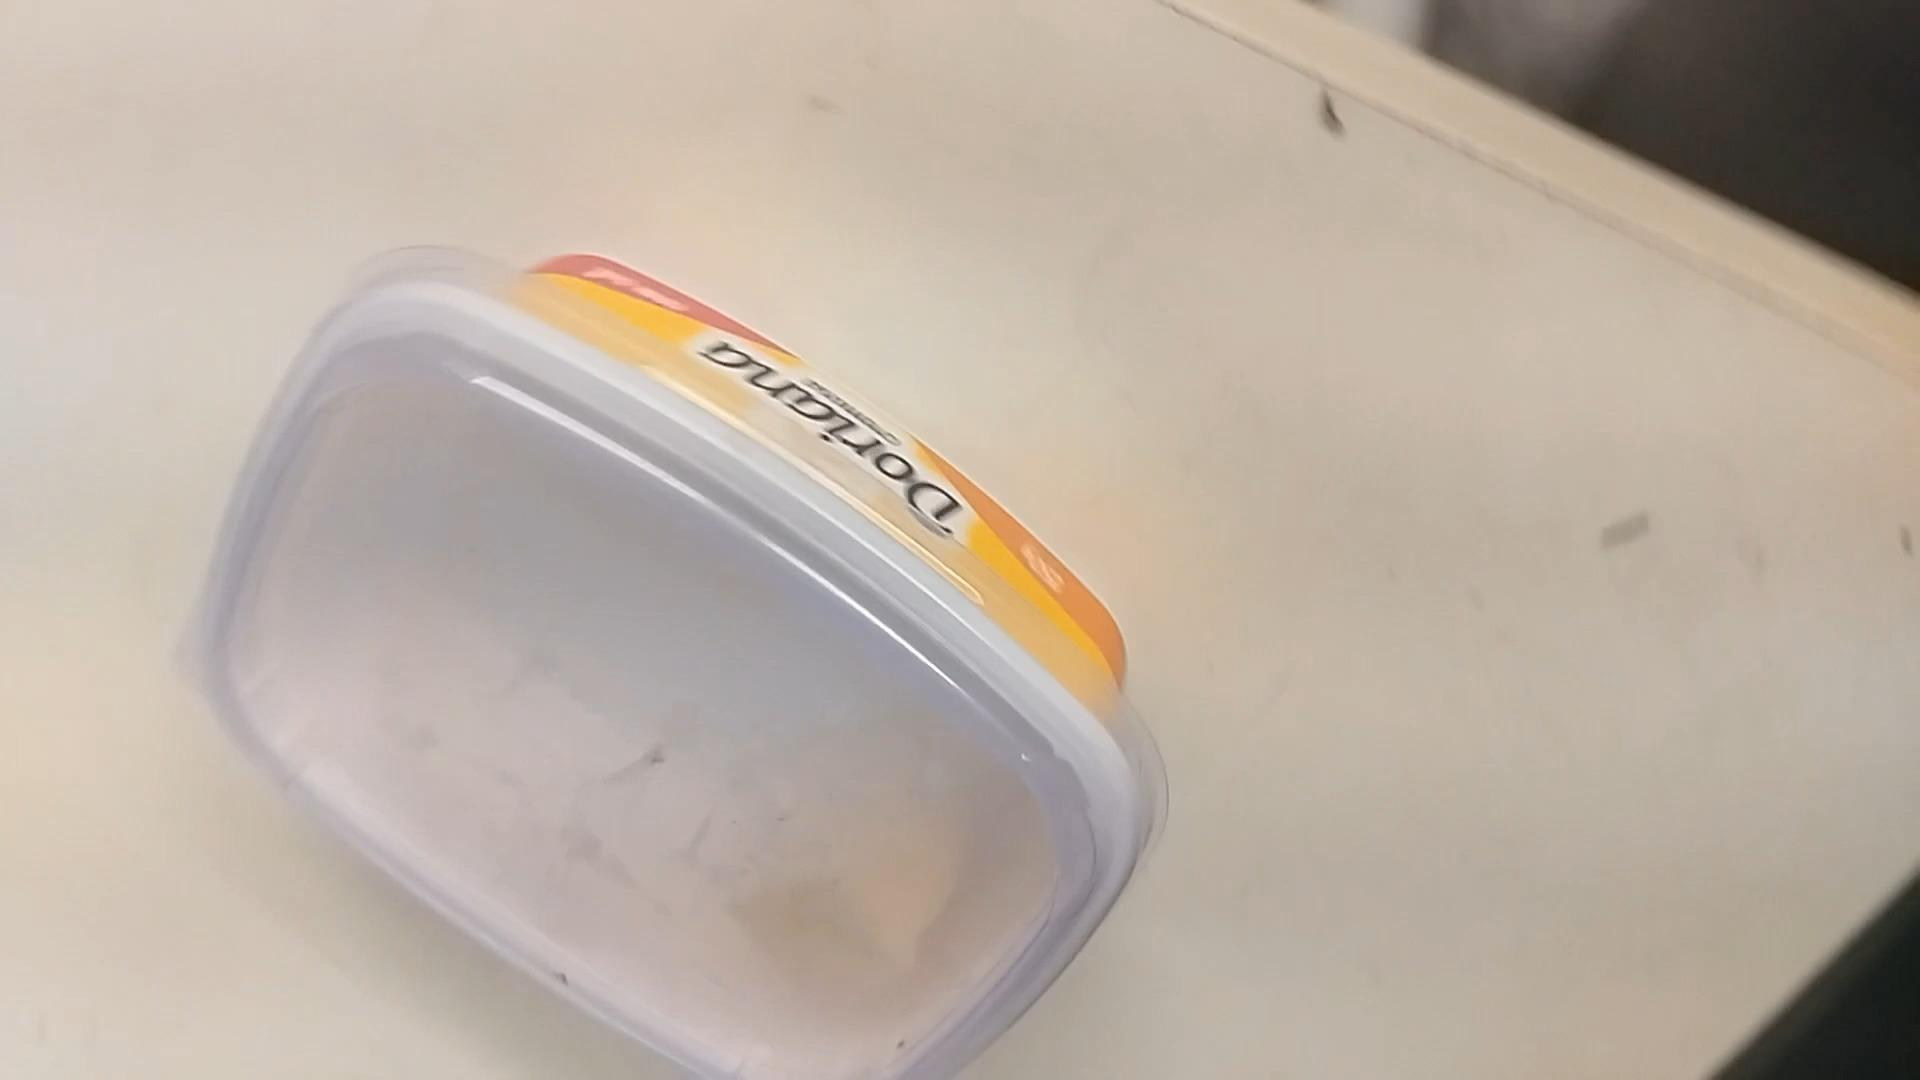butter: (182, 249, 1170, 1076)
